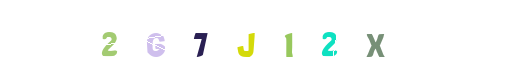1: (217, 0, 297, 80)
2: (151, 0, 231, 80), (289, 0, 369, 80)
7: (161, 0, 241, 80)
G: (151, 0, 231, 80)
J: (207, 0, 287, 80)
X: (322, 0, 402, 80)
